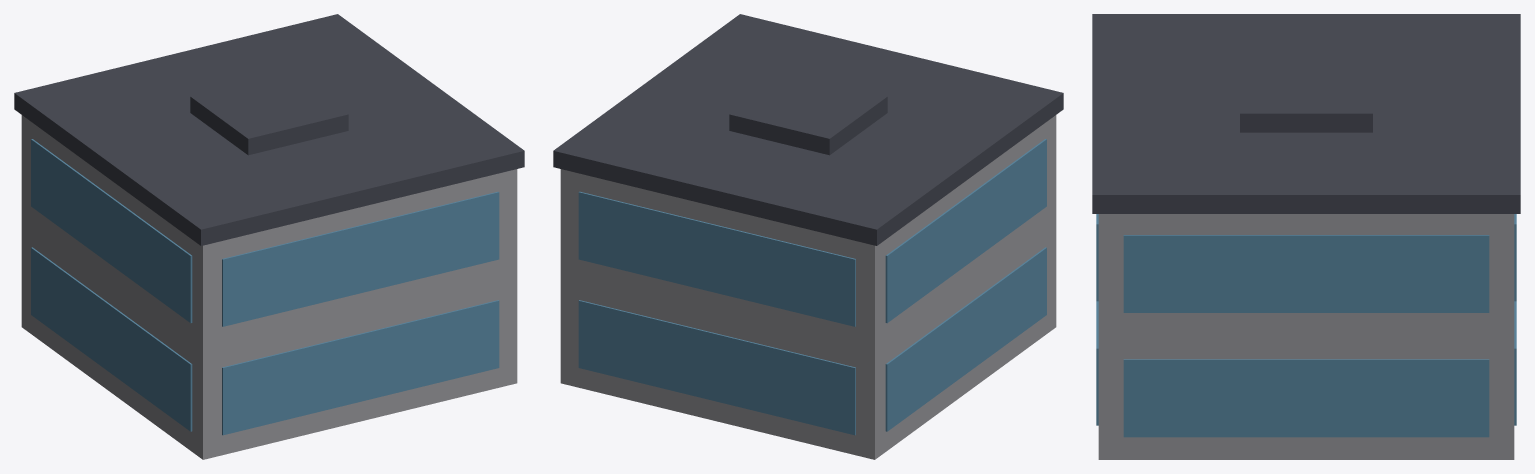
The model's file is shop_b.obj.
The picture shows the model from 3 angles, left to right: view 1: azimuth 30°, elevation 25°; view 2: azimuth 150°, elevation 25°; view 3: azimuth 270°, elevation 25°; orthographic projection. The views are drawn at different scales.
Parts seen in each view (by area): view 1: Cube; view 2: Cube; view 3: Cube.
Part boxes in pixels (left/top/right/bottom): Cube: left=14, top=14, right=524, bottom=459; Cube: left=553, top=14, right=1063, bottom=459; Cube: left=1092, top=14, right=1520, bottom=459.
Size of the model in its own units: 10.3 by 7.6 by 10.3.
